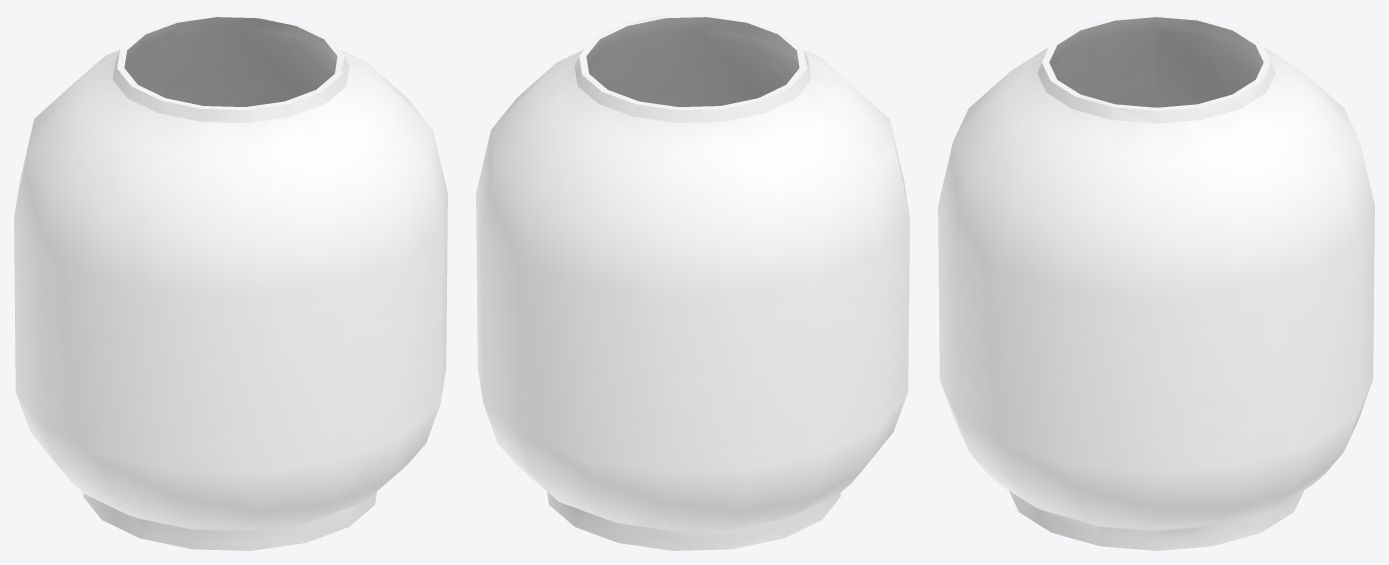
The model's file is Vase.glb.
The picture shows the model from 3 angles, left to right: view 1: azimuth 30°, elevation 25°; view 2: azimuth 150°, elevation 25°; view 3: azimuth 270°, elevation 25°; orthographic projection.
Visible parts, largest first — view 1: Vase; view 2: Vase; view 3: Vase.
Boxes of the visible parts, bbox=[...] form: Vase: bbox=[14, 14, 447, 550]; Vase: bbox=[476, 14, 909, 550]; Vase: bbox=[938, 14, 1374, 550].
Size of the model in its own units: 0.2364 by 0.2541 by 0.2364.
1 material, 1 textured.
